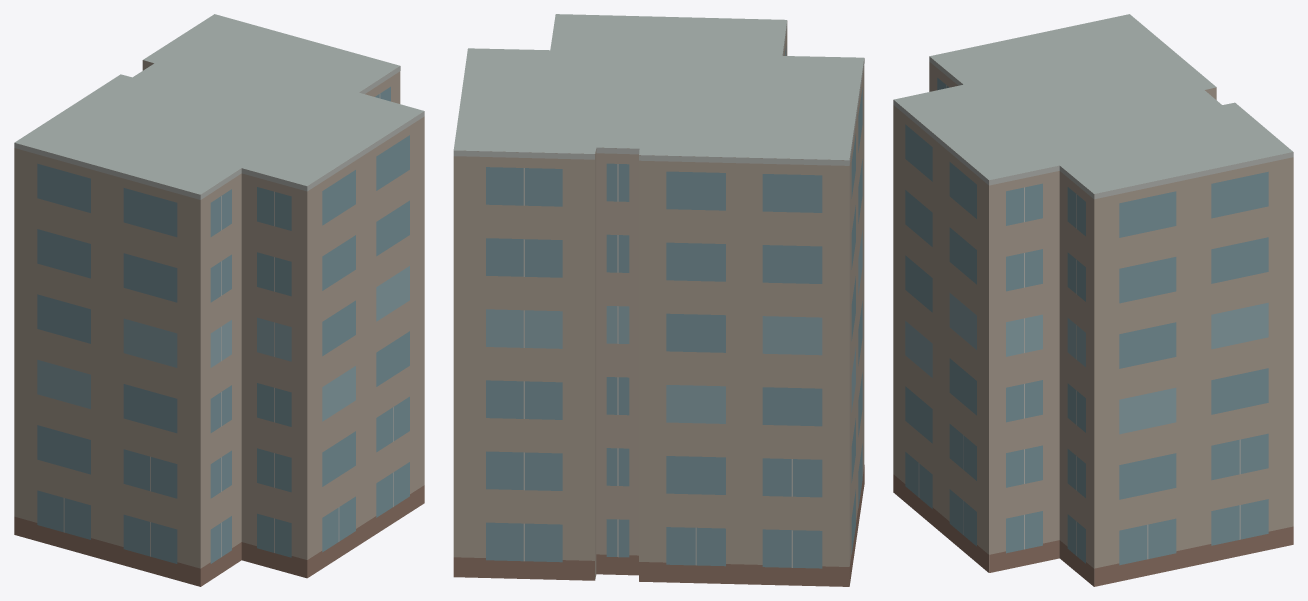
File: survey-upis-32698836.glb
The picture shows the model from 3 angles, left to right: view 1: azimuth 30°, elevation 25°; view 2: azimuth 150°, elevation 25°; view 3: azimuth 270°, elevation 25°; orthographic projection. The views are drawn at different scales.
Parts seen in each view (by area): view 1: survey-upis-32698836.tmp; view 2: survey-upis-32698836.tmp; view 3: survey-upis-32698836.tmp.
Boxes of the visible parts, x1=… form: survey-upis-32698836.tmp: x1=14, y1=14, x2=424, y2=586; survey-upis-32698836.tmp: x1=453, y1=14, x2=864, y2=586; survey-upis-32698836.tmp: x1=893, y1=14, x2=1293, y2=586.
Size of the model in its own units: 18.01 by 18.3 by 16.9.
